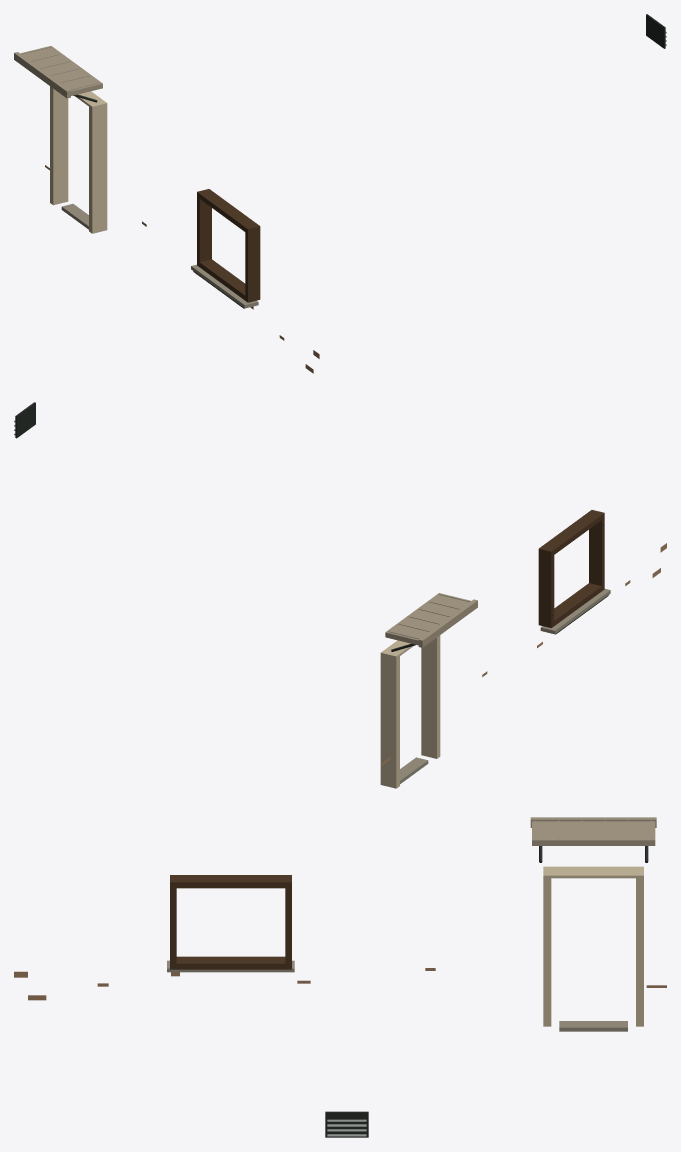
File: SM_Homes_H03_Fixtures_LOD1.fbx
The picture shows the model from 3 angles, top to bottom: view 1: azimuth 30°, elevation 25°; view 2: azimuth 150°, elevation 25°; view 3: azimuth 270°, elevation 25°; orthographic projection. The views are drawn at different scales.
Parts seen in each view (by area): view 1: SM_Homes_H03_Fixtures_LOD1; view 2: SM_Homes_H03_Fixtures_LOD1; view 3: SM_Homes_H03_Fixtures_LOD1.
Boxes of the visible parts, x1,y1,x2,y2 form: SM_Homes_H03_Fixtures_LOD1: [14, 14, 666, 373]; SM_Homes_H03_Fixtures_LOD1: [14, 402, 666, 788]; SM_Homes_H03_Fixtures_LOD1: [14, 817, 666, 1137].
Size of the model in its own units: 9.75 by 9 by 2.88.
